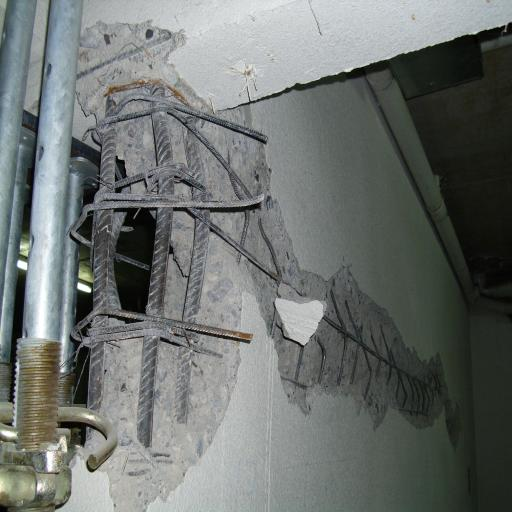spalling: (77, 23, 463, 512)
